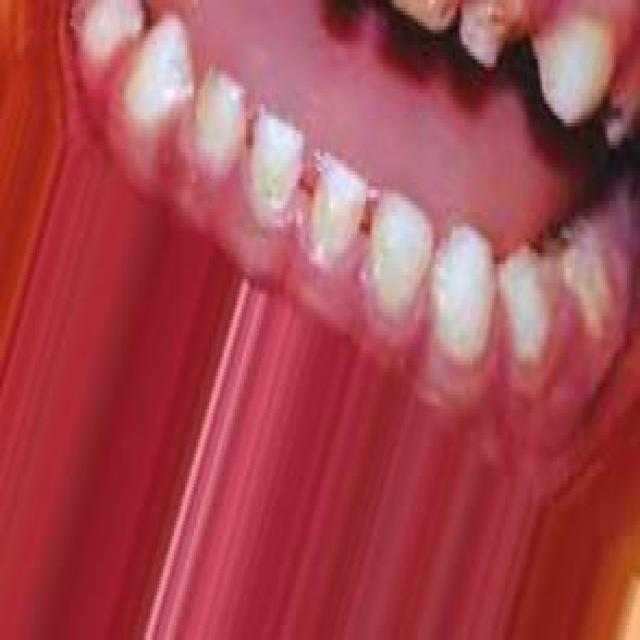caries: (540, 206, 602, 305), (459, 0, 527, 71), (590, 72, 632, 147)
